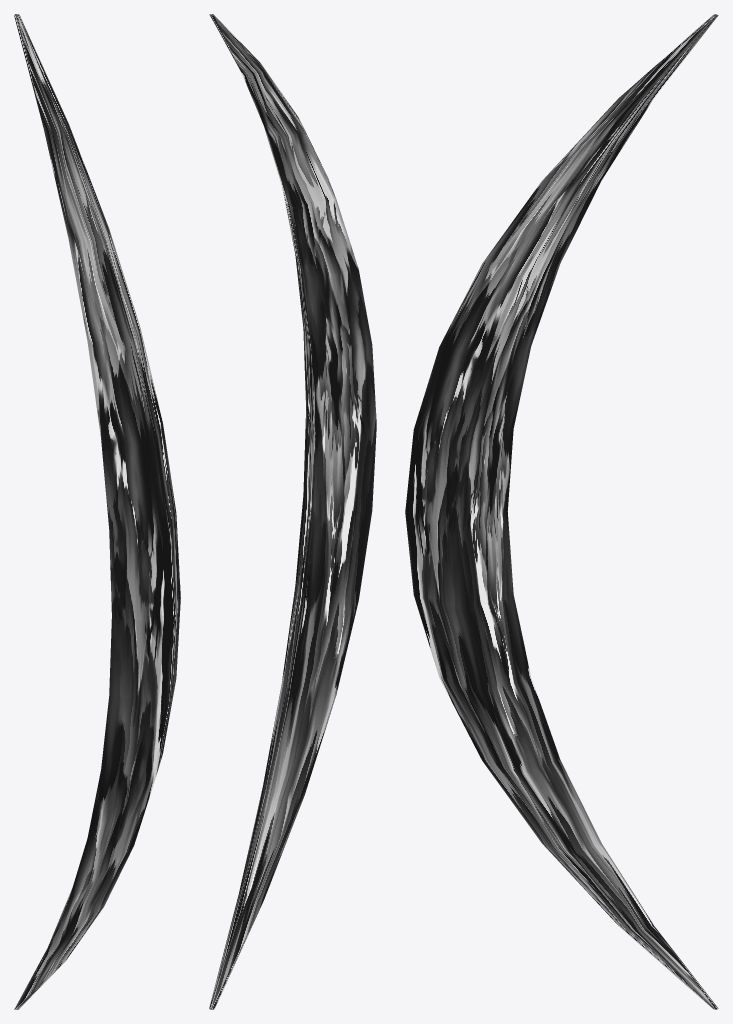
The model's file is fx_c225_normal_sword_proj_arena__a2blade.glb.
3 renders of one model, left to right at view 1: azimuth 30°, elevation 25°; view 2: azimuth 150°, elevation 25°; view 3: azimuth 270°, elevation 25°, orthographic.
Visible parts, largest first — view 1: fx_c225_normal_sword_proj_arena; view 2: fx_c225_normal_sword_proj_arena; view 3: fx_c225_normal_sword_proj_arena.
Part boxes in pixels (x1,y1,x2,y2): fx_c225_normal_sword_proj_arena: (14,14,180,1009); fx_c225_normal_sword_proj_arena: (209,14,376,1009); fx_c225_normal_sword_proj_arena: (405,14,718,1009).
Size of the model in its own units: 0.056 by 0.762 by 0.218.
1 material, 1 textured.
